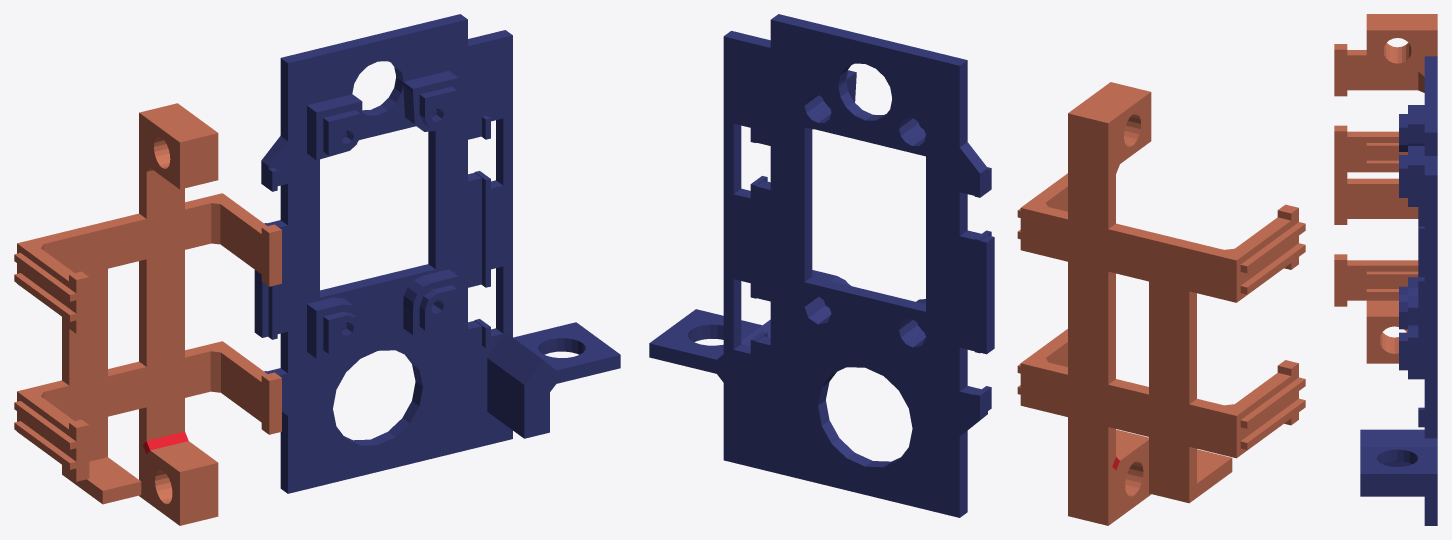
File: carrierassembly.obj
The picture shows the model from 3 angles, left to right: view 1: azimuth 30°, elevation 25°; view 2: azimuth 150°, elevation 25°; view 3: azimuth 270°, elevation 25°; orthographic projection. The views are drawn at different scales.
Parts seen in each view (by area): view 1: group_0_3356795, group_0_13463636; view 2: group_0_3356795, group_0_13463636; view 3: group_0_13463636, group_0_3356795.
Part boxes in pixels (box(x1,y1,x2,y2)): group_0_3356795: box(254, 14, 620, 493); group_0_13463636: box(14, 103, 281, 525); group_0_3356795: box(649, 14, 994, 517); group_0_13463636: box(1017, 82, 1305, 525); group_0_13463636: box(1334, 14, 1437, 363); group_0_3356795: box(1360, 56, 1437, 525).
Size of the model in its own units: 88 by 64 by 16.
